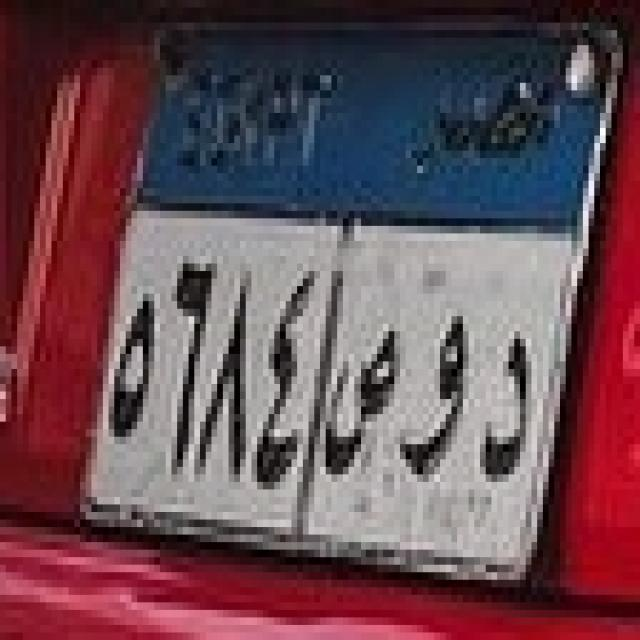4: (249, 266, 311, 496)
5: (104, 288, 164, 452)
6: (162, 242, 220, 478)
8: (197, 261, 257, 490)
Saad: (316, 320, 407, 484)
Wow: (403, 306, 478, 488)
daal: (484, 318, 541, 491)
